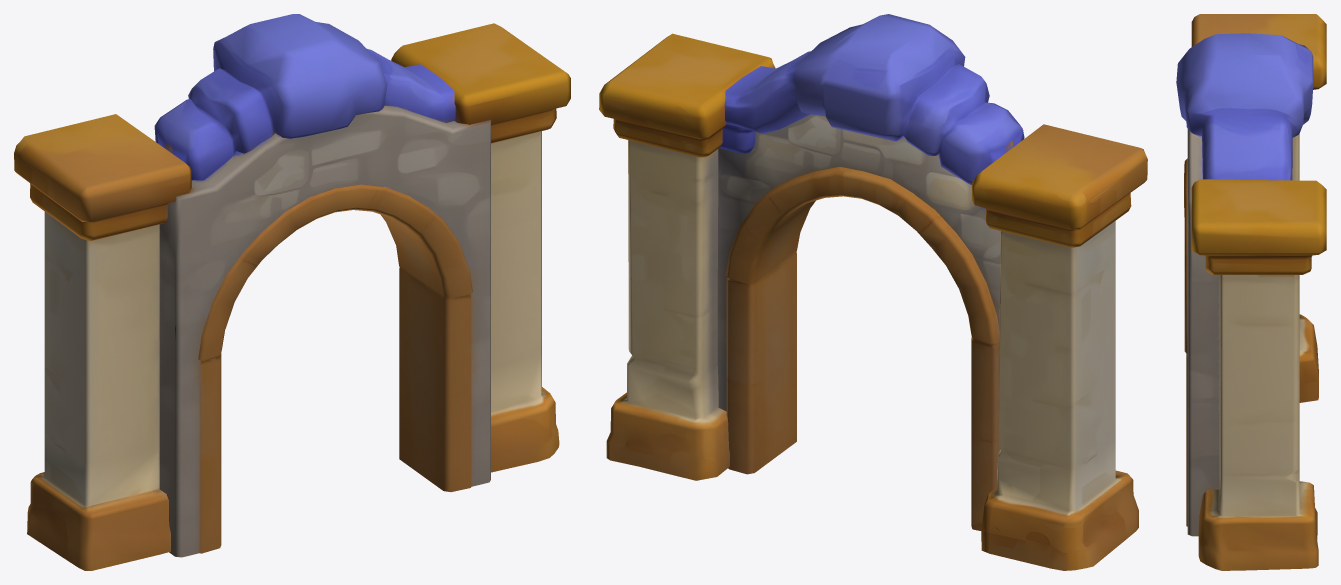
The model's file is academy-arch.glb.
3 views of the same model, side by side, from view 1: azimuth 30°, elevation 25°; view 2: azimuth 150°, elevation 25°; view 3: azimuth 270°, elevation 25° (orthographic). The views are drawn at different scales.
Parts seen in each view (by area): view 1: tripo_node_b9b6e2fa-b058-4de7-98a3-43c19cc836c6; view 2: tripo_node_b9b6e2fa-b058-4de7-98a3-43c19cc836c6; view 3: tripo_node_b9b6e2fa-b058-4de7-98a3-43c19cc836c6.
Boxes of the visible parts, x1=… form: tripo_node_b9b6e2fa-b058-4de7-98a3-43c19cc836c6: x1=14, y1=14, x2=570, y2=570; tripo_node_b9b6e2fa-b058-4de7-98a3-43c19cc836c6: x1=599, y1=14, x2=1147, y2=570; tripo_node_b9b6e2fa-b058-4de7-98a3-43c19cc836c6: x1=1176, y1=14, x2=1326, y2=570.
Size of the model in its own units: 5.29 by 4.8 by 1.56.
Materials: 1 (1 with a texture image).
